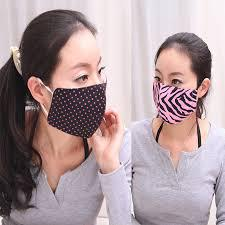OK: (42, 56, 108, 135), (153, 68, 205, 125)
